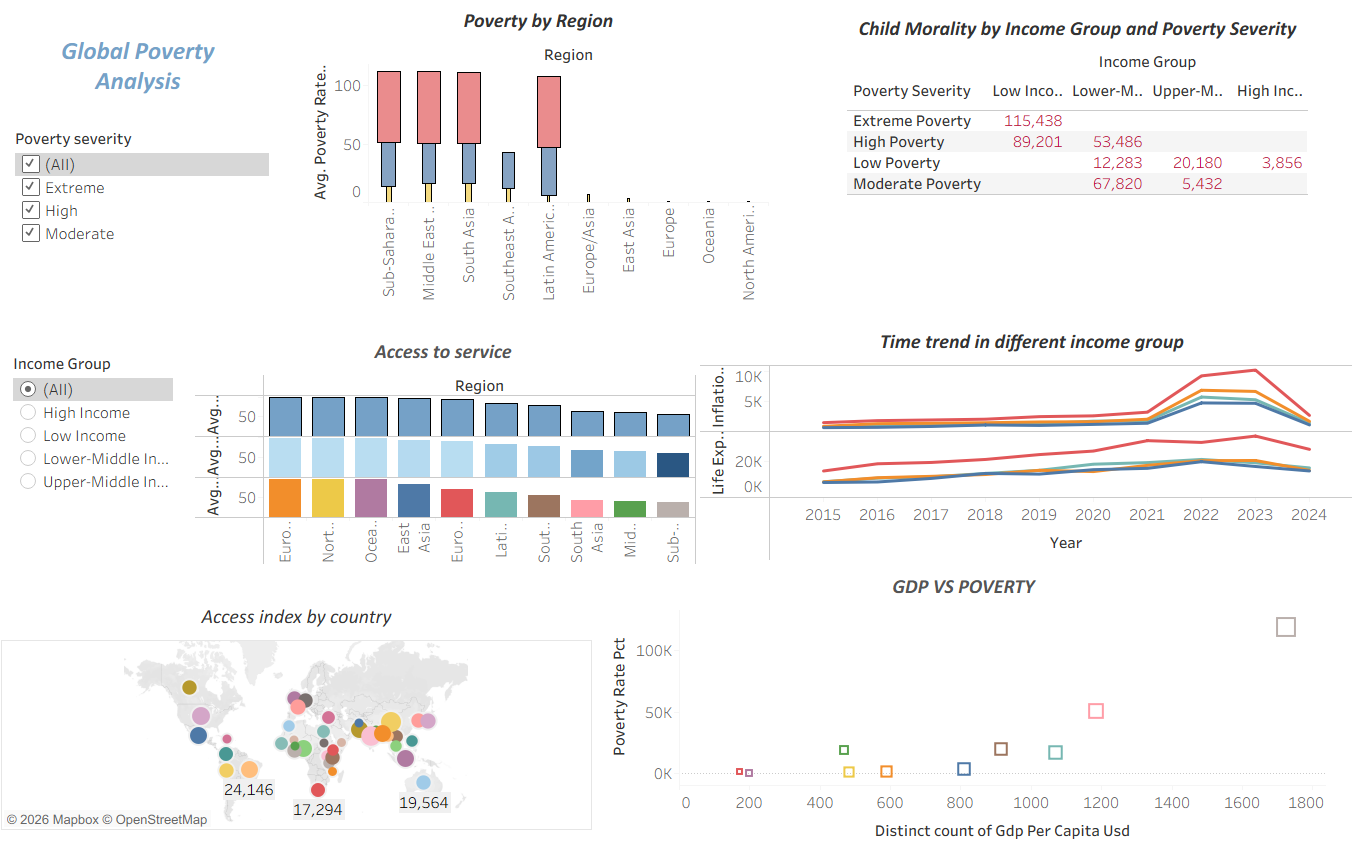

The dashboard page shown, as its layout file describes it:
{"tool":"tableau","page":{"name":"Global Poverty Analysis","canvas":[1000,1000],"units":"permille","ordinal":0},"visuals":[{"type":"worksheet","title":"Poverty by Region","mark":"Automatic","rows":["poverty_rate_pct"],"cols":["region"],"box":[188.3,9.4,318,350.2]},{"type":"worksheet","title":"Child Morality by Income Group and Poverty Severity","mark":"Automatic","rows":["Calculation_0888411577958402"],"cols":["income_group"],"box":[513,18.8,292.7,356.1]},{"type":"text","box":[10.3,23.5,149.7,117.5]},{"type":"filter","title":"Poverty by Region","param":"[federated.02lra431lw3qq3131qv410ho6pr3].[none:Calculation_0888411585490948:nk]","box":[10.9,155.1,153.3,195.1]},{"type":"worksheet","title":"Time trend in different income group","mark":"Automatic","rows":["inflation_rate_pct","life_expectancy_years"],"cols":["year"],"box":[424.3,386.6,400.7,277.3]},{"type":"worksheet","title":"Access to service ","mark":"Automatic","rows":["electricity_access_pct","clean_water_access_pct","internet_penetration_pct"],"cols":["region"],"box":[119.5,398.4,302.4,271.4]},{"type":"filter","title":"Child Morality by Income Group and Poverty Severity","param":"[federated.02lra431lw3qq3131qv410ho6pr3].[none:income_group:nk]","box":[9.7,419.5,96.6,249.1]},{"type":"worksheet","title":"GDP VS POVERTY","mark":"Automatic","rows":["poverty_rate_pct"],"cols":["gdp_per_capita_usd"],"box":[364.5,674.5,437.5,326.7]},{"type":"worksheet","title":"Access index by country","mark":"Automatic","box":[2.4,709.8,356.7,270.3]}]}

Visuals, with their boxes on the dashboard's canvas, which has no fixed pixel size, in thousandths of its width and height (x1, y1, x2, y2). These are canvas units, not pixel positions in the 1352x847 screenshot, which may show the page scaled, cropped or inside an application window:
"Poverty by Region" worksheet: <bbox>188, 9, 506, 360</bbox>
"Child Morality by Income Group and Poverty Severity" worksheet: <bbox>513, 19, 806, 375</bbox>
text: <bbox>10, 24, 160, 141</bbox>
"Poverty by Region" filter: <bbox>11, 155, 164, 350</bbox>
"Time trend in different income group" worksheet: <bbox>424, 387, 825, 664</bbox>
"Access to service " worksheet: <bbox>120, 398, 422, 670</bbox>
"Child Morality by Income Group and Poverty Severity" filter: <bbox>10, 420, 106, 669</bbox>
"GDP VS POVERTY" worksheet: <bbox>364, 674, 802, 1001</bbox>
"Access index by country" worksheet: <bbox>2, 710, 359, 980</bbox>
